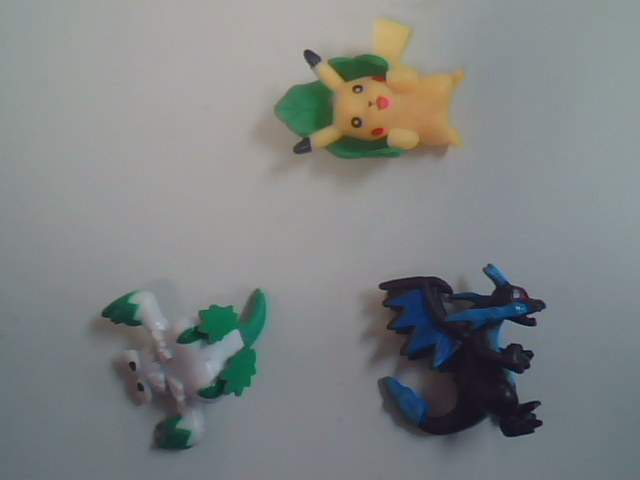abomasnow: (67, 253, 299, 458)
charizard: (360, 259, 585, 458)
pikachu: (282, 12, 506, 223)
